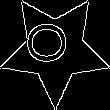O_E: (31, 28, 79, 70)
